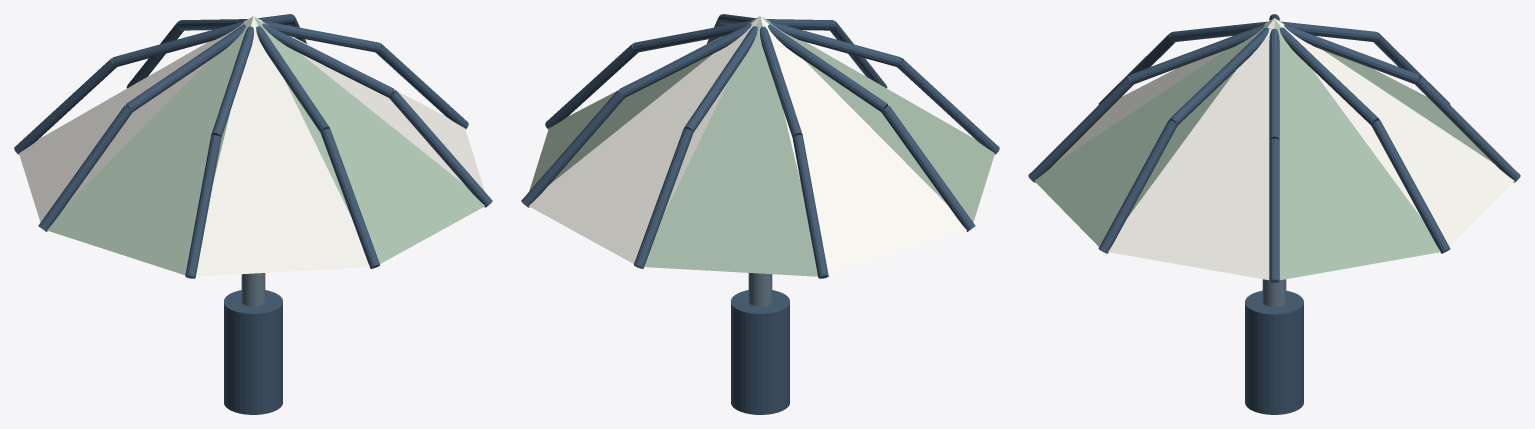
File: foldumbrella.glb
3 renders of one model, left to right at view 1: azimuth 30°, elevation 25°; view 2: azimuth 150°, elevation 25°; view 3: azimuth 270°, elevation 25°, orthographic.
Visible parts, largest first — view 1: panel2, panel3, panel1, panel4, handle, panel0, rib21, rib41, rib31, rib11, rib10, rib40 (+9 smaller); view 2: panel5, panel4, panel6, panel3, handle, panel7, rib61, rib41, rib51, rib71, rib70, rib40 (+9 smaller); view 3: panel0, panel7, panel1, panel6, handle, panel2, panel5, rib11, rib71, rib01, rib20, rib60 (+10 smaller).
Boxes of the visible parts, x1,y1,x2,y2 form: panel2: [196, 16, 369, 276]; panel3: [47, 16, 253, 274]; panel1: [254, 17, 484, 263]; panel4: [19, 16, 252, 222]; handle: [224, 290, 282, 414]; panel0: [254, 16, 484, 190]; rib21: [320, 128, 379, 268]; rib41: [38, 105, 132, 231]; rib31: [185, 135, 221, 278]; rib11: [389, 90, 492, 207]; rib10: [262, 23, 394, 97]; rib40: [126, 24, 246, 111]; panel5: [644, 16, 817, 276]; panel4: [760, 16, 966, 274]; panel6: [529, 17, 759, 263]; panel3: [761, 16, 994, 222]; handle: [731, 290, 789, 414]; panel7: [529, 16, 759, 190]; rib61: [634, 128, 693, 268]; rib41: [881, 105, 975, 231]; rib51: [792, 135, 828, 278]; rib71: [521, 90, 624, 207]; rib70: [619, 23, 751, 97]; rib40: [767, 24, 887, 111]; panel0: [1108, 18, 1274, 280]; panel7: [1274, 19, 1440, 280]; panel1: [1034, 18, 1273, 246]; panel6: [1275, 18, 1514, 246]; handle: [1245, 290, 1303, 414]; panel2: [1055, 18, 1273, 163]; panel5: [1275, 18, 1493, 163]; rib11: [1098, 120, 1177, 253]; rib71: [1371, 120, 1450, 253]; rib01: [1269, 138, 1279, 282]; rib20: [1129, 24, 1264, 84]; rib60: [1284, 24, 1419, 84].
Bounding box in the file's own units: 1.67 × 1.44 × 1.67.
